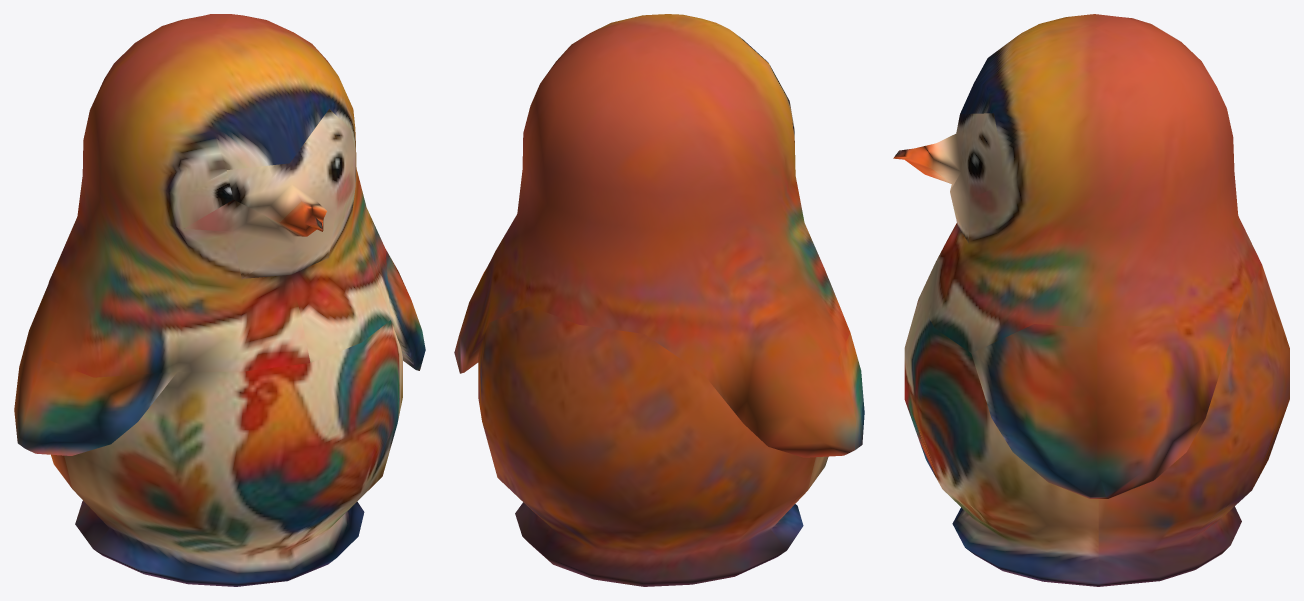
The model's file is penguin-06-42-rooster-folk-penguin-doll.gltf.
3 views of the same model, side by side, from view 1: azimuth 30°, elevation 25°; view 2: azimuth 150°, elevation 25°; view 3: azimuth 270°, elevation 25° (orthographic).
Parts seen in each view (by area): view 1: penguin-06-42-rooster-folk-penguin-doll; view 2: penguin-06-42-rooster-folk-penguin-doll; view 3: penguin-06-42-rooster-folk-penguin-doll.
Boxes of the visible parts, <box> form: penguin-06-42-rooster-folk-penguin-doll: <box>14,14,425,586</box>; penguin-06-42-rooster-folk-penguin-doll: <box>454,14,864,586</box>; penguin-06-42-rooster-folk-penguin-doll: <box>893,14,1289,586</box>.
Size of the model in its own units: 0.2 by 0.2481 by 0.1722.
Materials: 1 (1 with a texture image).
